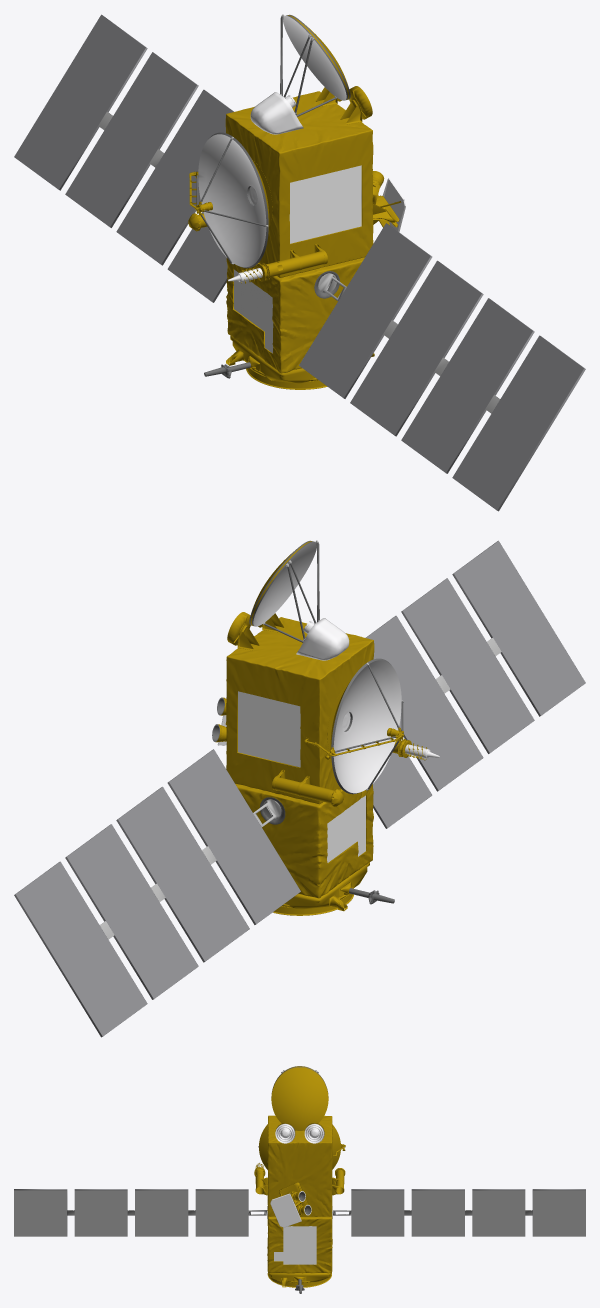
Rendered from jason.glb.
3 renders of one model, top to bottom at view 1: azimuth 30°, elevation 25°; view 2: azimuth 150°, elevation 25°; view 3: azimuth 270°, elevation 25°, orthographic. The views are drawn at different scales.
Visible parts, largest first — view 1: Jason-1_vFINAL [Dark Grey], Jason-1_vFINAL [Main Body_Foil], Jason-1_vFINAL [White Surfaces], Jason-1_vFINAL [Foil Color Surfaces], Jason-1_vFINAL [Steel Panels], Jason-1_vFINAL [Black Surfaces], Jason-1_vFINAL [White Surfaces_Smooth], Jason-1_vFINAL [Grey Surfaces]; view 2: Jason-1_vFINAL [Dark Grey], Jason-1_vFINAL [Main Body_Foil], Jason-1_vFINAL [White Surfaces], Jason-1_vFINAL [Foil Color Surfaces], Jason-1_vFINAL [Steel Panels], Jason-1_vFINAL [Black Surfaces], Jason-1_vFINAL [White Surfaces_Smooth], Jason-1_vFINAL [Grey Surfaces]; view 3: Jason-1_vFINAL [Solar Panels], Jason-1_vFINAL [Main Body_Foil], Jason-1_vFINAL [Foil Color Surfaces], Jason-1_vFINAL [Light Grey Surfaces], Jason-1_vFINAL [White Surfaces], Jason-1_vFINAL [Steel Panels], Jason-1_vFINAL [Dark Grey], Jason-1_vFINAL [Grey Surfaces], Jason-1_vFINAL [Black Surfaces].
Boxes of the visible parts, x1,y1,x2,y2 form: Jason-1_vFINAL [Dark Grey]: [14, 14, 585, 511]; Jason-1_vFINAL [Main Body_Foil]: [225, 91, 373, 373]; Jason-1_vFINAL [White Surfaces]: [198, 15, 405, 282]; Jason-1_vFINAL [Foil Color Surfaces]: [188, 15, 401, 389]; Jason-1_vFINAL [Steel Panels]: [234, 165, 361, 353]; Jason-1_vFINAL [Black Surfaces]: [196, 14, 350, 378]; Jason-1_vFINAL [White Surfaces_Smooth]: [250, 92, 303, 134]; Jason-1_vFINAL [Grey Surfaces]: [98, 14, 500, 413]; Jason-1_vFINAL [Dark Grey]: [14, 540, 585, 1037]; Jason-1_vFINAL [Main Body_Foil]: [226, 617, 374, 898]; Jason-1_vFINAL [White Surfaces]: [212, 541, 439, 793]; Jason-1_vFINAL [Foil Color Surfaces]: [215, 541, 426, 915]; Jason-1_vFINAL [Steel Panels]: [238, 691, 365, 862]; Jason-1_vFINAL [Black Surfaces]: [212, 540, 403, 904]; Jason-1_vFINAL [White Surfaces_Smooth]: [296, 618, 349, 660]; Jason-1_vFINAL [Grey Surfaces]: [99, 540, 501, 939]; Jason-1_vFINAL [Solar Panels]: [16, 1191, 583, 1235]; Jason-1_vFINAL [Main Body_Foil]: [267, 1115, 332, 1273]; Jason-1_vFINAL [Foil Color Surfaces]: [254, 1066, 345, 1287]; Jason-1_vFINAL [Light Grey Surfaces]: [14, 1190, 585, 1236]; Jason-1_vFINAL [White Surfaces]: [257, 1123, 324, 1227]; Jason-1_vFINAL [Steel Panels]: [274, 1226, 316, 1264]; Jason-1_vFINAL [Dark Grey]: [14, 1189, 585, 1236]; Jason-1_vFINAL [Grey Surfaces]: [67, 1070, 532, 1218]; Jason-1_vFINAL [Black Surfaces]: [267, 1066, 332, 1293].
Size of the model in its own units: 152 by 253 by 634.
